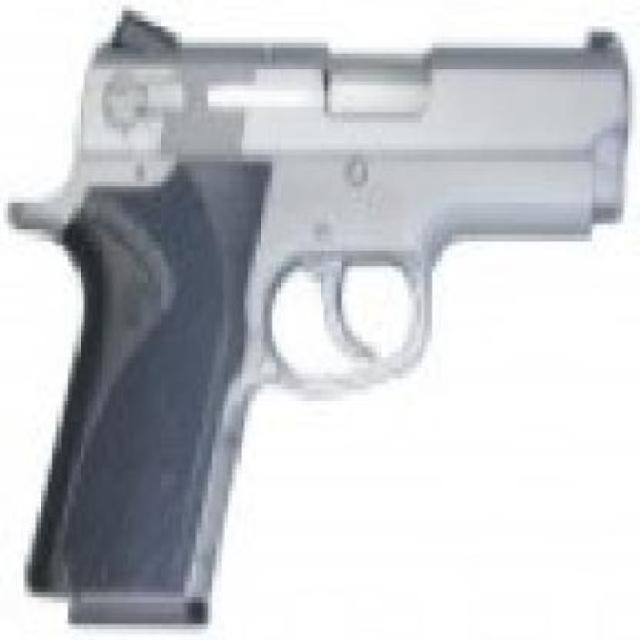gun: (11, 11, 624, 614)
